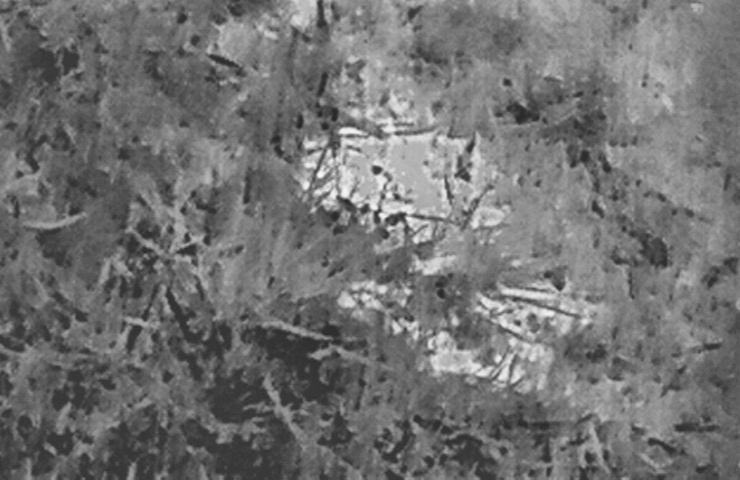landmines: (294, 84, 518, 261)
